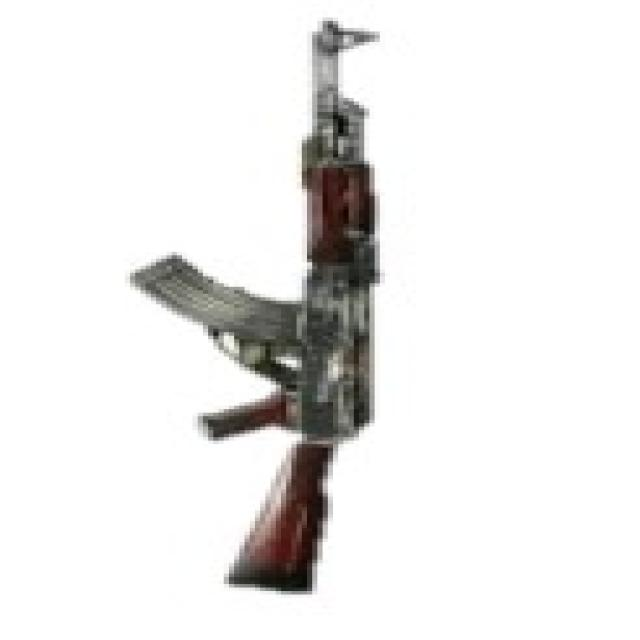rifle: (124, 1, 402, 613)
